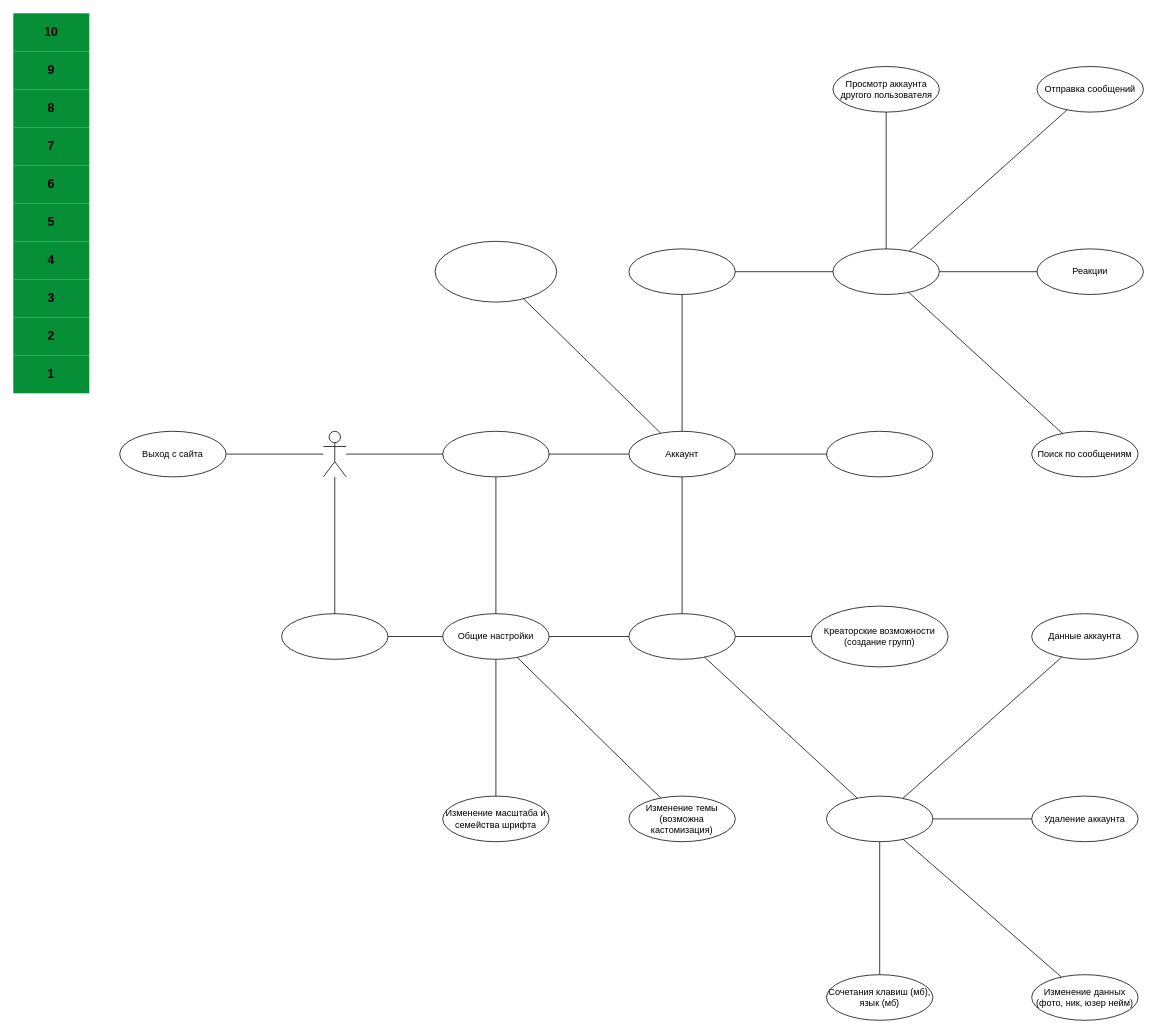
Some shapes in this 1157 by 1034 pixel diagram are drawn without their labels. The shapes that lost their labels are listed below. From the top down, each one's centre as x and y in pixels, then its label:
At pixel 495 271: "Поиск по пользователям (возможно, сообщениям)".
At pixel 681 271: "Список чатов".
At pixel 885 271: "Выбор и отображение выбранного чата".
At pixel 334 454: "User".
At pixel 495 454: "Авторизация".
At pixel 879 454: "Поиск по чатам (фильтрация)".
At pixel 334 636: "Регистрация".
At pixel 681 636: "Боковое меню".
At pixel 879 818: "Настройки аккаунта".
